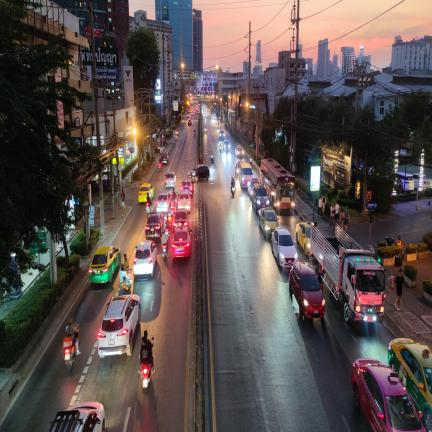bus: (260, 159, 295, 210)
car: (98, 294, 140, 358), (289, 262, 325, 318), (271, 227, 298, 267), (133, 240, 157, 277), (250, 183, 270, 213), (145, 212, 165, 239), (173, 209, 190, 232), (188, 165, 210, 182), (156, 192, 170, 213), (177, 191, 191, 211), (180, 179, 194, 196), (165, 172, 176, 188), (168, 195, 177, 214), (422, 174, 432, 190), (160, 152, 170, 165), (412, 173, 419, 189), (223, 140, 230, 151)
human: (65, 318, 81, 355), (140, 330, 154, 372), (395, 268, 404, 311), (119, 253, 129, 286), (333, 201, 340, 228), (328, 202, 335, 227), (344, 206, 350, 232), (121, 187, 125, 208), (318, 196, 322, 217)
motorbike: (63, 336, 76, 371), (119, 268, 133, 290), (141, 361, 152, 388), (377, 236, 394, 247), (162, 244, 167, 261), (146, 201, 151, 217), (231, 185, 235, 198), (249, 155, 253, 165), (219, 144, 222, 154), (211, 154, 214, 163), (159, 163, 162, 172), (224, 123, 227, 130), (194, 130, 196, 137), (217, 124, 219, 131), (205, 127, 207, 133), (176, 130, 178, 136), (151, 337, 154, 341), (77, 326, 78, 327), (134, 258, 135, 259)
taxi: (351, 358, 425, 432), (388, 338, 432, 432), (88, 246, 121, 283), (258, 207, 279, 238), (172, 227, 191, 259), (296, 221, 312, 255), (138, 183, 154, 203), (248, 178, 259, 199), (235, 145, 244, 157)
truck: (310, 224, 385, 323)
van: (397, 172, 414, 193), (239, 163, 253, 188)
